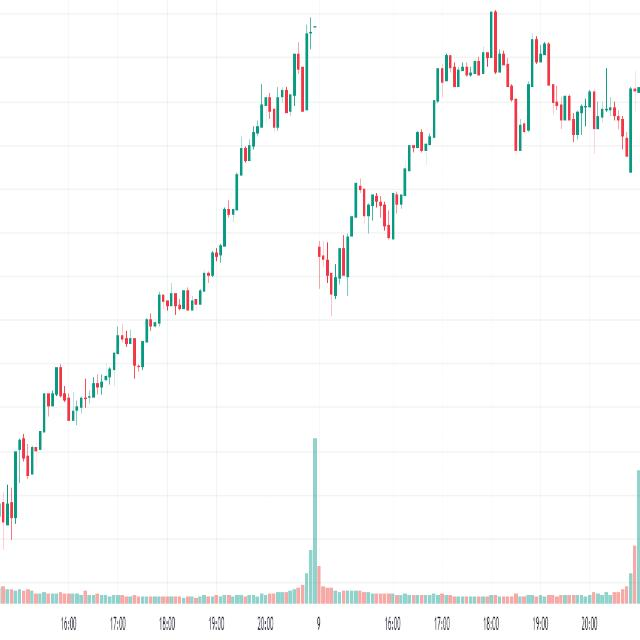Descending-Triangle: (413, 0, 636, 174)
